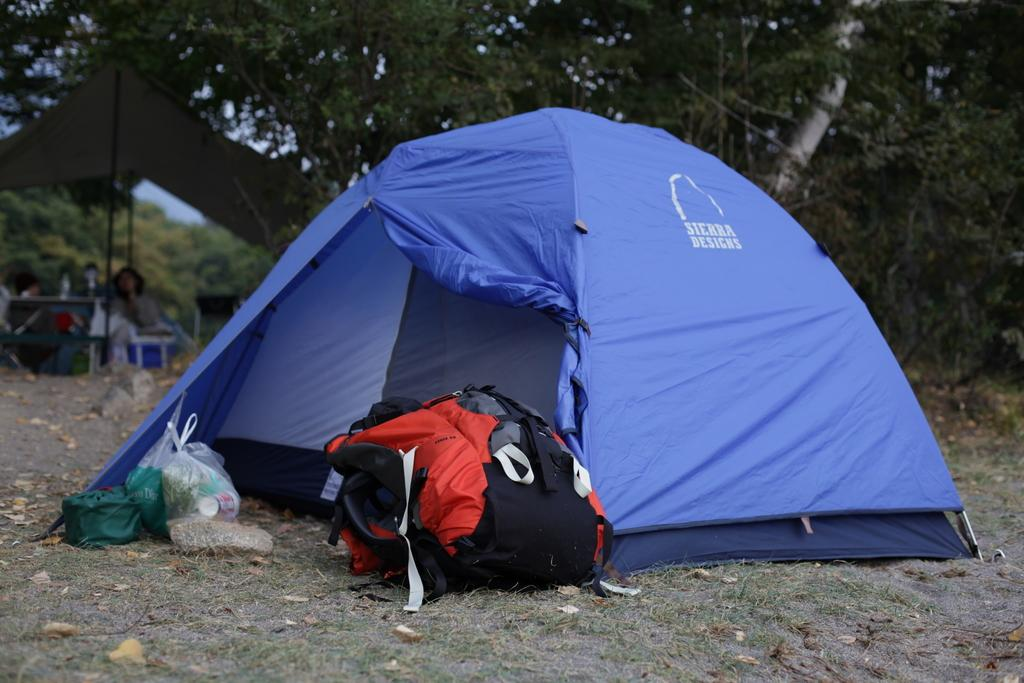Luggage-and-bags: (327, 388, 637, 609)
